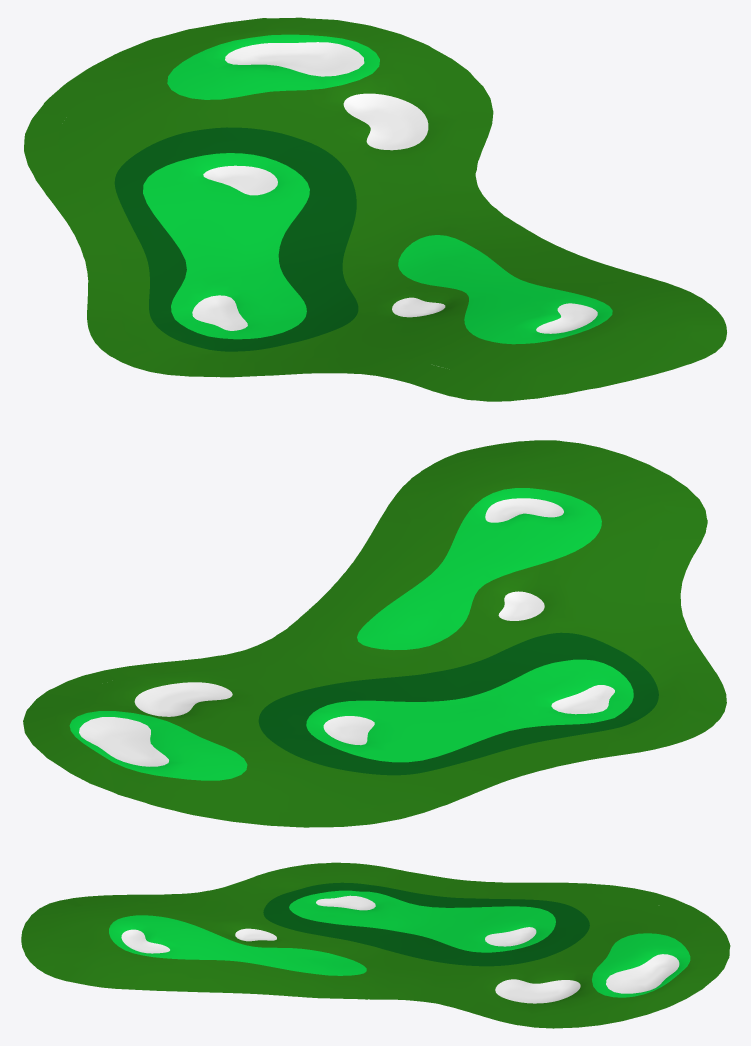
The model's file is field-mesh.fbx.
3 views of the same model, one above another, from view 1: azimuth 30°, elevation 25°; view 2: azimuth 150°, elevation 25°; view 3: azimuth 270°, elevation 25° (orthographic). The views are drawn at different scales.
Visible parts, largest first — view 1: TIN.001; view 2: TIN.001; view 3: TIN.001.
Boxes of the visible parts, bbox=[...] form: TIN.001: bbox=[24, 17, 726, 401]; TIN.001: bbox=[23, 440, 726, 827]; TIN.001: bbox=[21, 862, 730, 1028].
Bounding box in the file's own units: 168 × 17.44 × 265.
